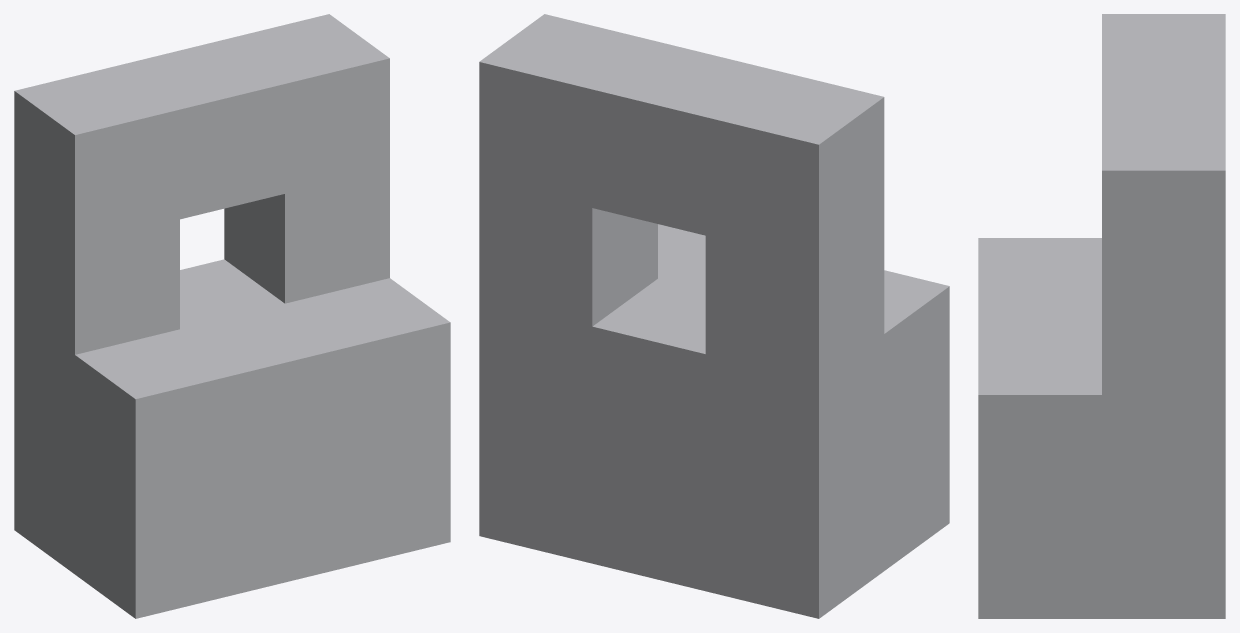
File: treasure_chest_h_lock.obj
3 views of the same model, side by side, from view 1: azimuth 30°, elevation 25°; view 2: azimuth 150°, elevation 25°; view 3: azimuth 270°, elevation 25° (orthographic). The views are drawn at different scales.
Size of the model in its own units: 0.3 by 0.4 by 0.2.
Materials: 1 (1 with a texture image).
